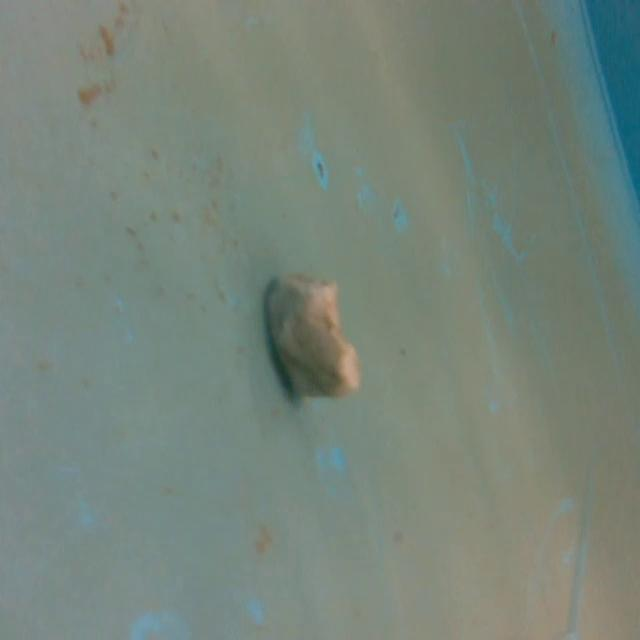rock: (260, 267, 365, 406)
